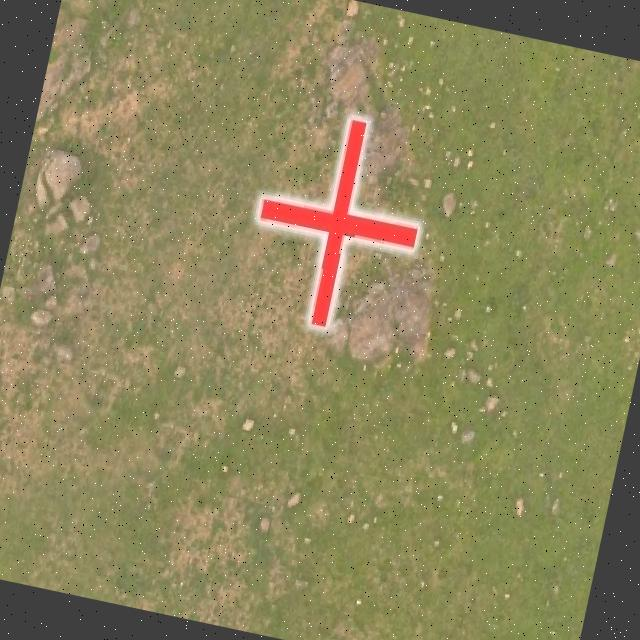x_marker: (238, 103, 436, 340)
